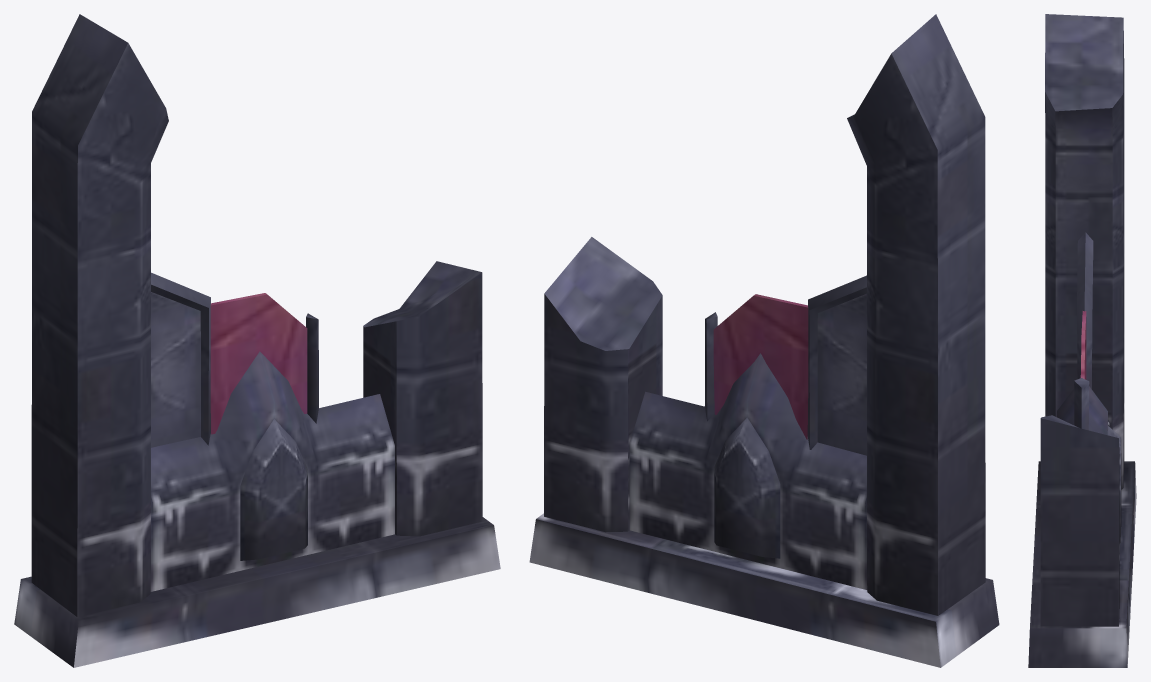
Rendered from pvp_chuan03.FBX.
3 renders of one model, left to right at view 1: azimuth 30°, elevation 25°; view 2: azimuth 150°, elevation 25°; view 3: azimuth 270°, elevation 25°, orthographic. The views are drawn at different scales.
Parts seen in each view (by area): view 1: pvp_chuan03; view 2: pvp_chuan03; view 3: pvp_chuan03.
Part boxes in pixels (bbox=[...]): pvp_chuan03: bbox=[14, 14, 500, 667]; pvp_chuan03: bbox=[529, 14, 999, 667]; pvp_chuan03: bbox=[1028, 14, 1136, 667].
Bounding box in the file's own units: 84.57 × 22.55 × 116.
